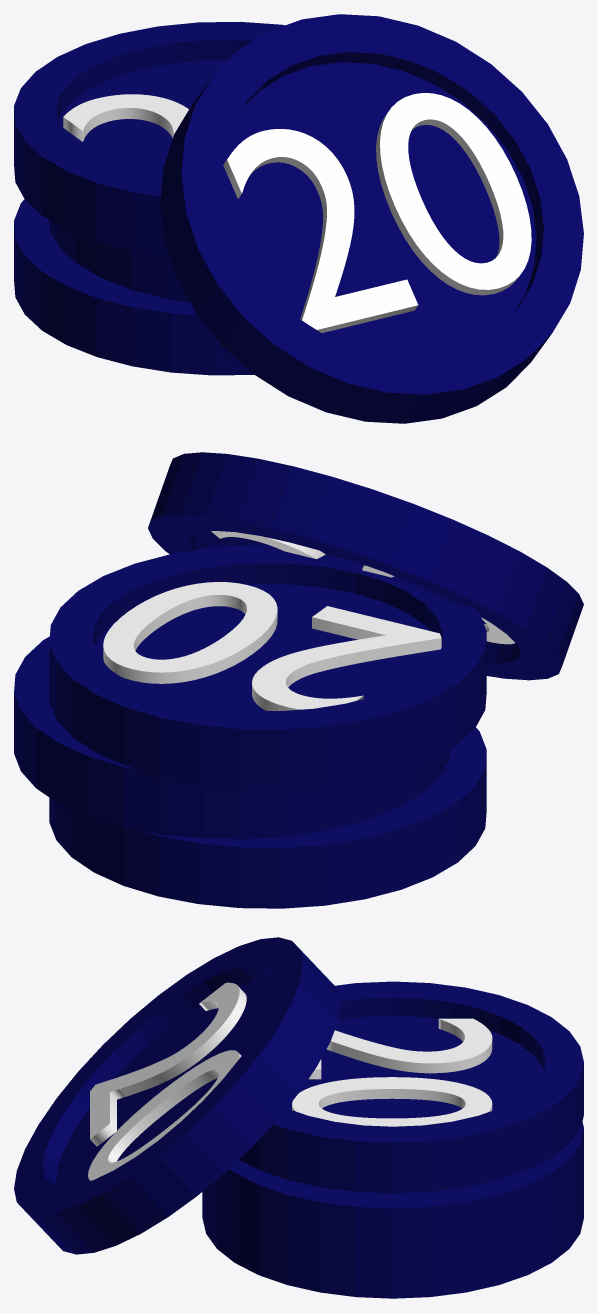
Rendered from stos_monet_20.fbx.
The picture shows the model from 3 angles, top to bottom: view 1: azimuth 30°, elevation 25°; view 2: azimuth 150°, elevation 25°; view 3: azimuth 270°, elevation 25°; orthographic projection. The views are drawn at different scales.
Visible parts, largest first — view 1: MONETA_20.003, MONETA_20.002, NOMINAL_G.003, MONETA_20, MONETA_20.001, NOMINAL_G.002; view 2: MONETA_20.002, MONETA_20.003, MONETA_20, MONETA_20.001, NOMINAL_G.002, NOMINAL_D.003; view 3: MONETA_20.003, MONETA_20.002, MONETA_20.001, MONETA_20, NOMINAL_G.002, NOMINAL_G.003.
Boxes of the visible parts, <box> form: MONETA_20.003: <box>160,14,583,423</box>; MONETA_20.002: <box>14,21,284,257</box>; NOMINAL_G.003: <box>223,93,531,332</box>; MONETA_20: <box>14,199,254,375</box>; MONETA_20.001: <box>49,220,189,302</box>; NOMINAL_G.002: <box>63,94,188,141</box>; MONETA_20.002: <box>49,544,486,790</box>; MONETA_20.003: <box>148,452,583,680</box>; MONETA_20: <box>49,727,486,908</box>; MONETA_20.001: <box>14,636,450,839</box>; NOMINAL_G.002: <box>103,582,441,711</box>; NOMINAL_D.003: <box>211,531,514,644</box>; MONETA_20.003: <box>14,937,340,1254</box>; MONETA_20.002: <box>239,981,583,1193</box>; MONETA_20.001: <box>204,1121,583,1261</box>; MONETA_20: <box>202,1181,583,1298</box>; NOMINAL_G.002: <box>292,1018,492,1126</box>; NOMINAL_G.003: <box>88,982,246,1180</box>.
Size of the model in its own units: 219 by 154 by 299.
